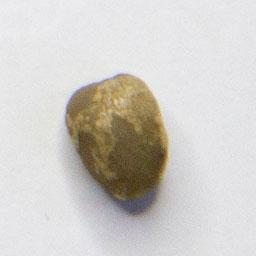peaberry: (60, 68, 173, 205)
